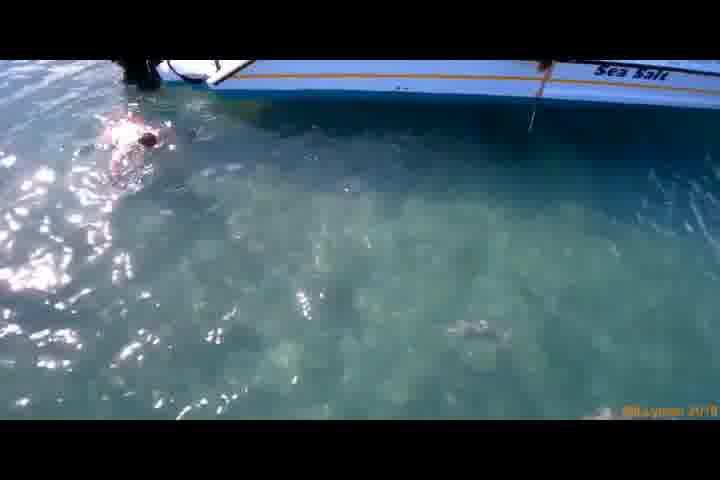human: (105, 120, 168, 157)
